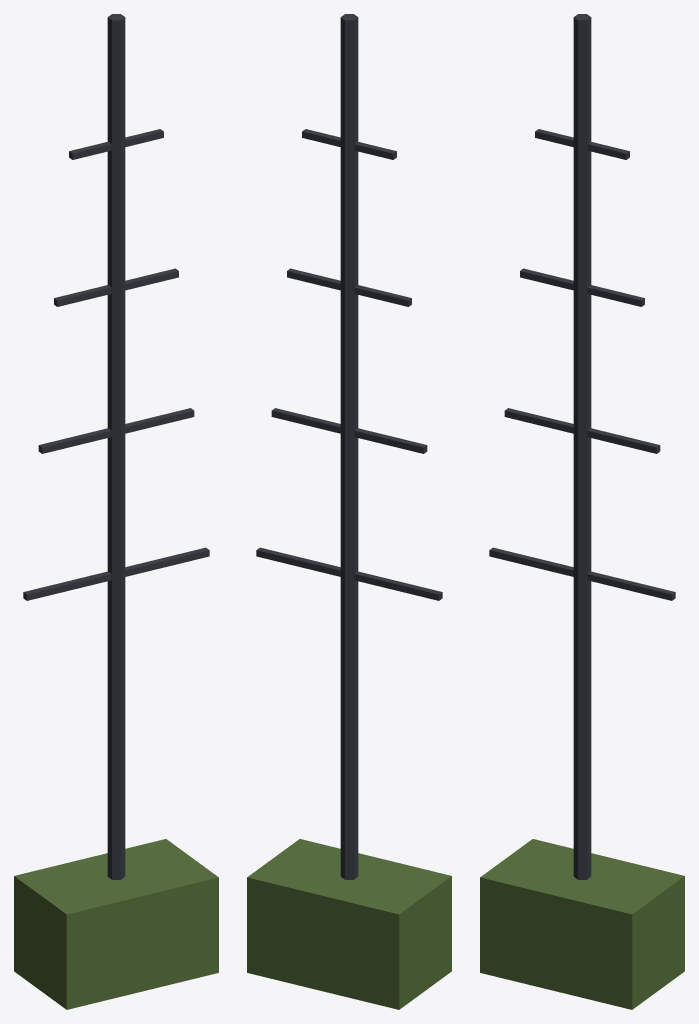
Rendered from radio_antenna.glb.
3 renders of one model, left to right at view 1: azimuth 30°, elevation 25°; view 2: azimuth 150°, elevation 25°; view 3: azimuth 330°, elevation 25°, orthographic.
Visible parts, largest first — view 1: radio_antenna; view 2: radio_antenna; view 3: radio_antenna.
Boxes of the visible parts, x1,y1,x2,y2 form: radio_antenna: (14,14,218,1009); radio_antenna: (247,14,451,1009); radio_antenna: (480,14,684,1009).
Bounding box in the file's own units: 1.2 × 6 × 0.6.
